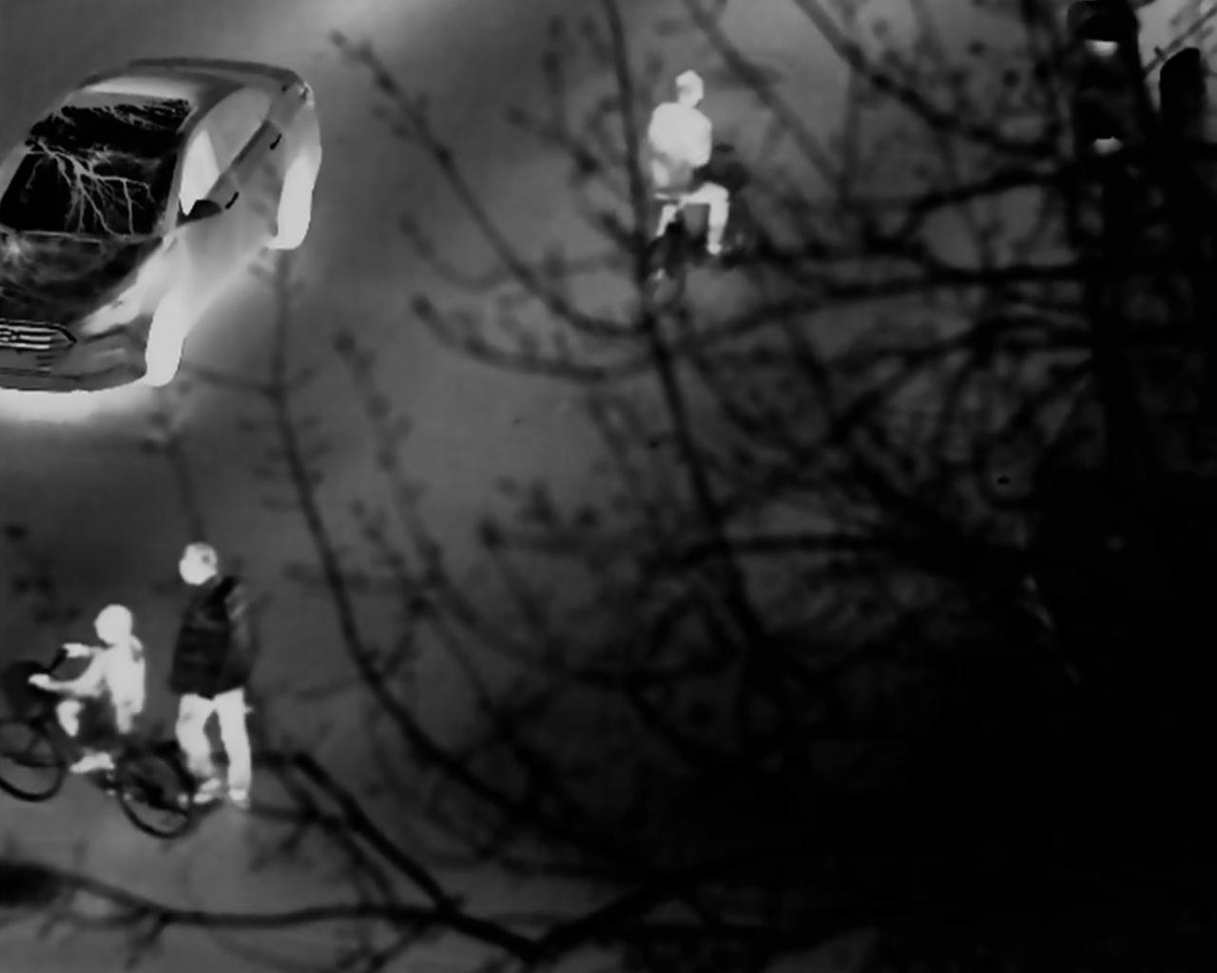person: (160, 547, 259, 814), (647, 70, 725, 266), (76, 611, 159, 763)
